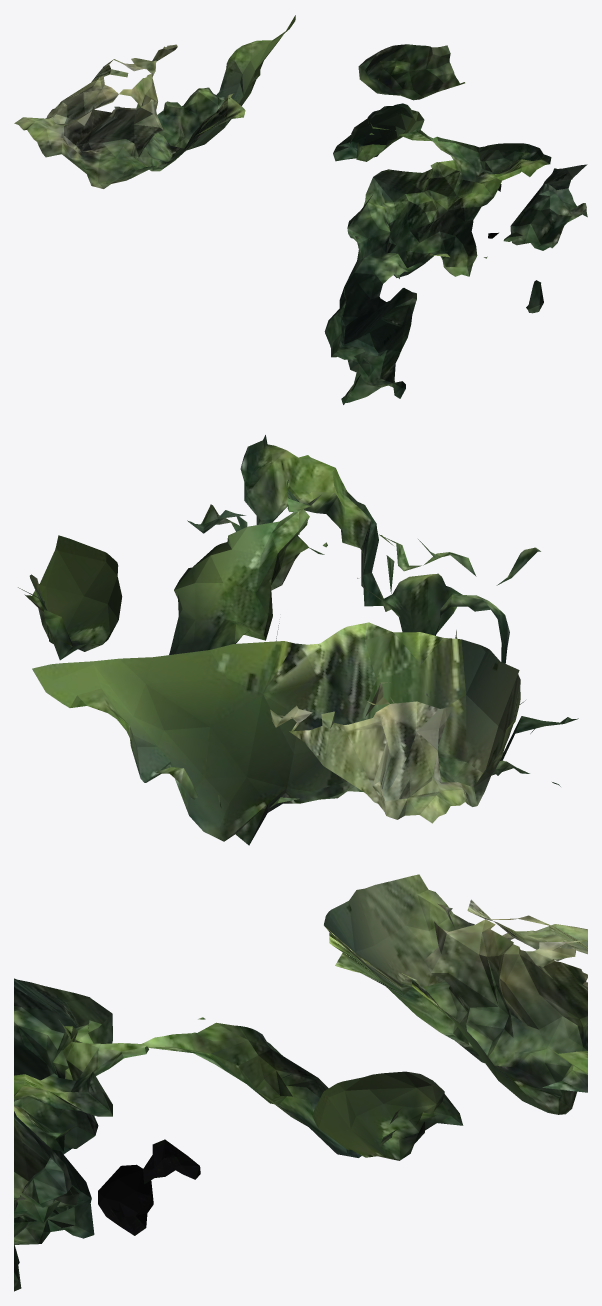
3 views of the same model, one above another, from view 1: azimuth 30°, elevation 25°; view 2: azimuth 150°, elevation 25°; view 3: azimuth 270°, elevation 25° (orthographic). The views are drawn at different scales.
Size of the model in its own units: 26.11 by 14.07 by 26.11.
Materials: 3 (3 with a texture image).
